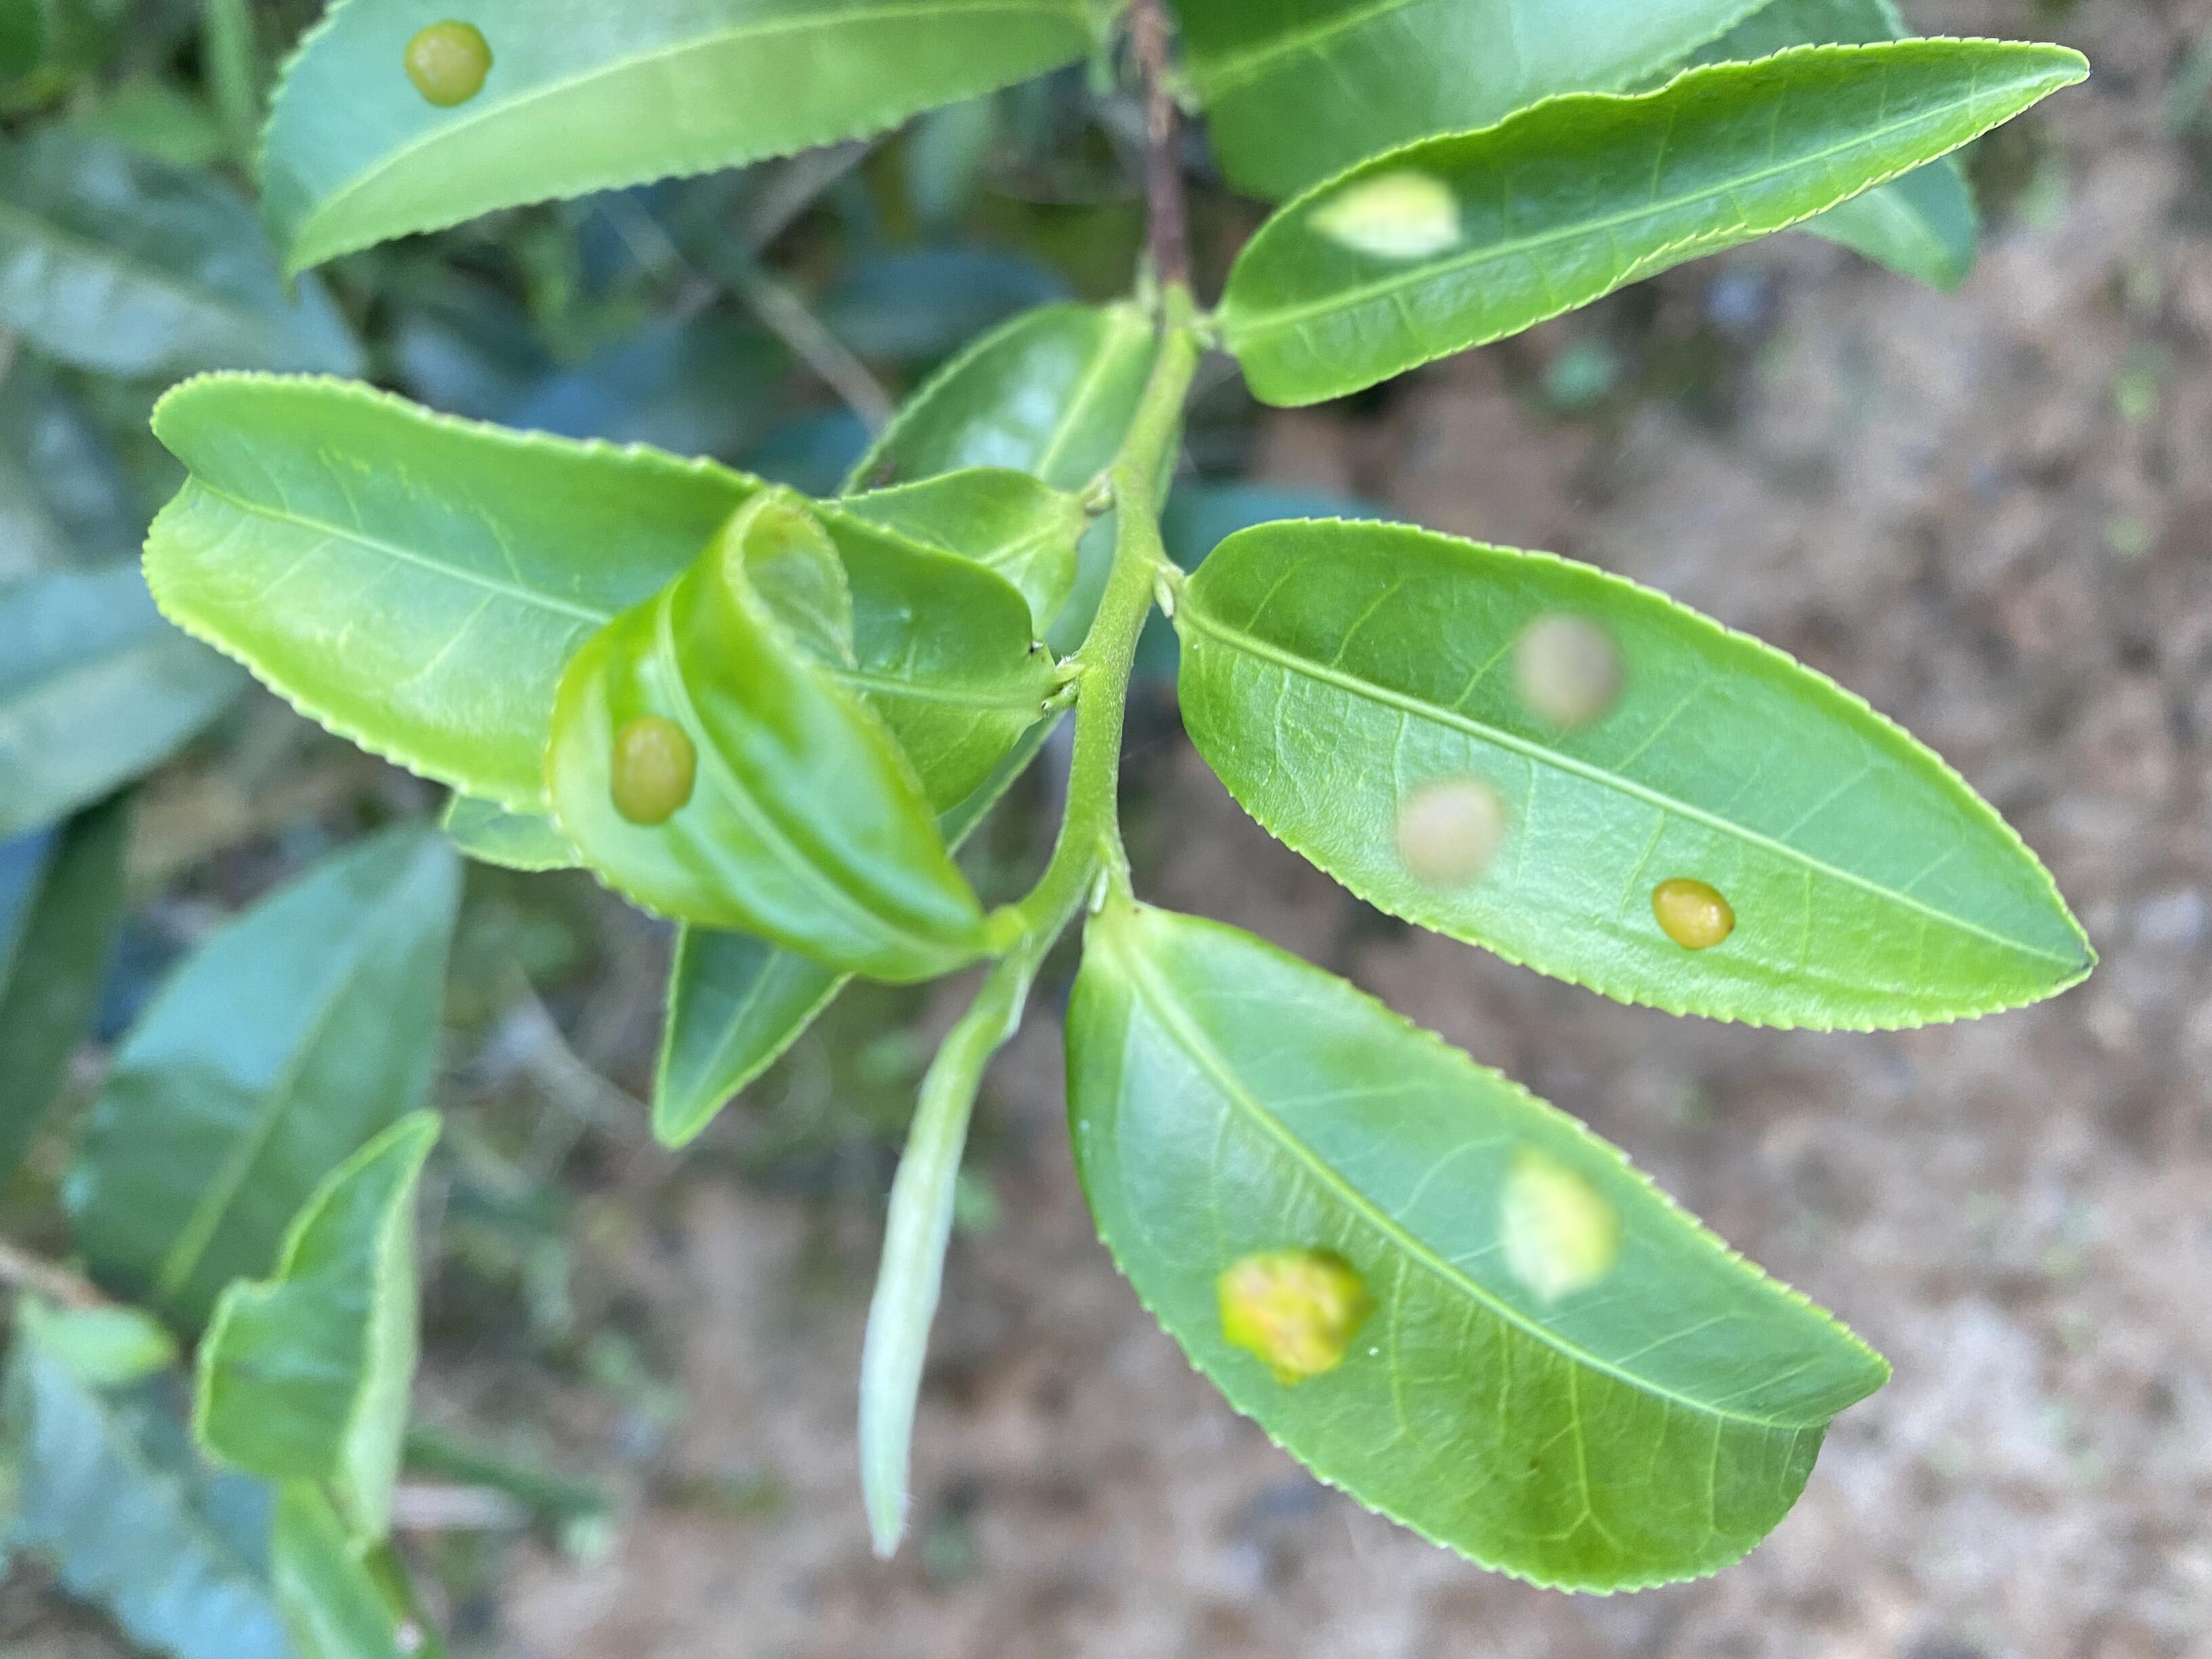chabing_high: (1066, 906, 1893, 1595), (1174, 514, 2095, 1037)
chabing_low: (1221, 35, 2094, 408), (251, 2, 1101, 310), (547, 491, 993, 985)
